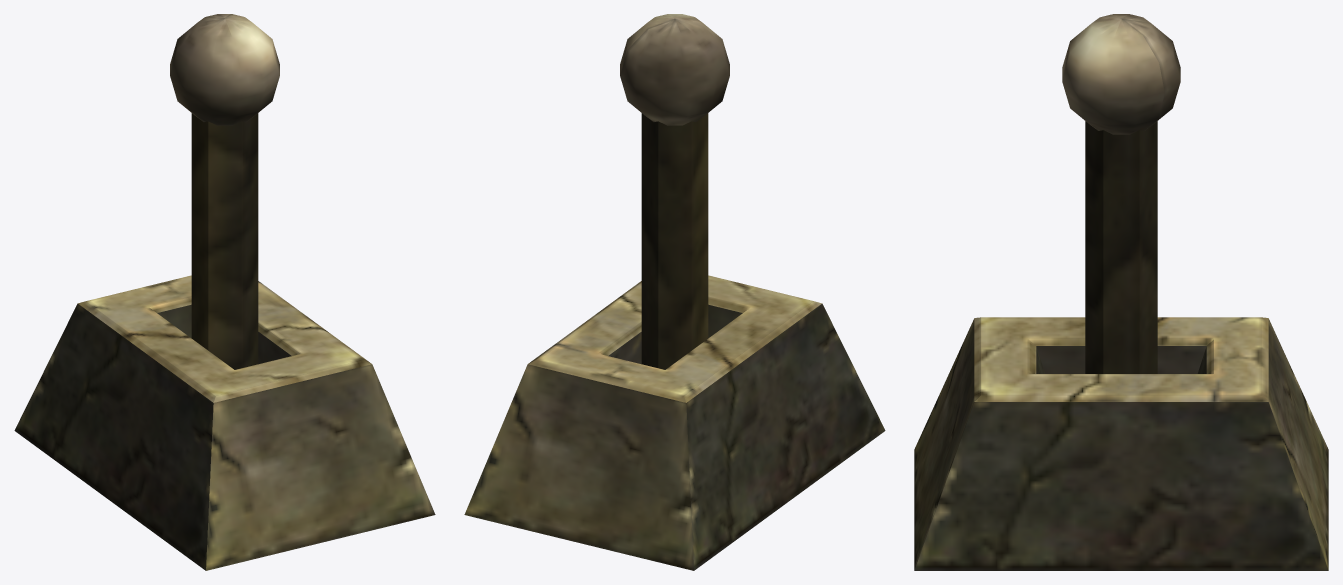
File: t-joystick-01.FBX
The picture shows the model from 3 angles, left to right: view 1: azimuth 30°, elevation 25°; view 2: azimuth 150°, elevation 25°; view 3: azimuth 270°, elevation 25°; orthographic projection. The views are drawn at different scales.
Visible parts, largest first — view 1: Box001, Object001; view 2: Box001, Object001; view 3: Box001, Object001.
Boxes of the visible parts, <box> form: Box001: <box>14,275,435,570</box>; Object001: <box>170,14,279,369</box>; Box001: <box>464,275,885,570</box>; Object001: <box>620,14,729,369</box>; Box001: <box>914,317,1328,570</box>; Object001: <box>1062,14,1180,373</box>.
Size of the model in its own units: 46.37 by 87.64 by 67.01.
Materials: 1 (1 with a texture image).
